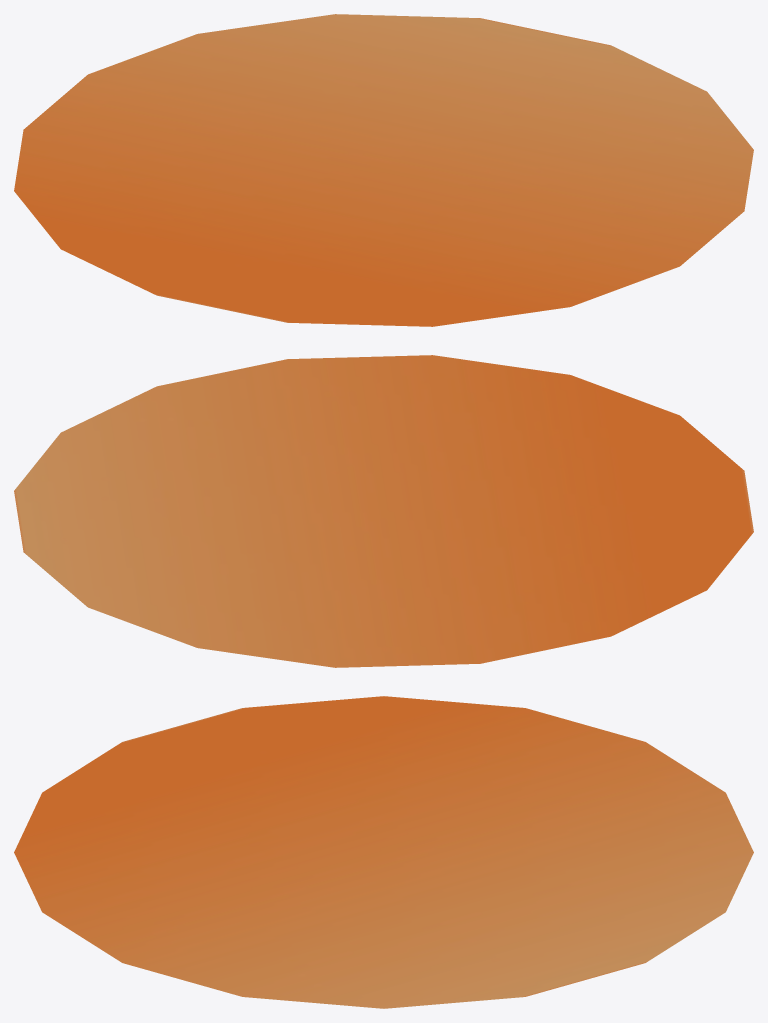
Rendered from ground.gltf.
The picture shows the model from 3 angles, top to bottom: view 1: azimuth 30°, elevation 25°; view 2: azimuth 150°, elevation 25°; view 3: azimuth 270°, elevation 25°; orthographic projection.
Visible parts, largest first — view 1: Circle; view 2: Circle; view 3: Circle.
Part boxes in pixels (box(x1,y1,x2,y2)): Circle: box(14, 14, 753, 326); Circle: box(14, 355, 753, 667); Circle: box(14, 696, 753, 1008).
Size of the model in its own units: 60 by 0 by 60.
1 material, 1 textured.
